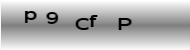9: (45, 11, 59, 25)
C: (75, 16, 89, 30)
P: (117, 17, 133, 32)
f: (89, 14, 98, 28)
p: (23, 10, 38, 25)
